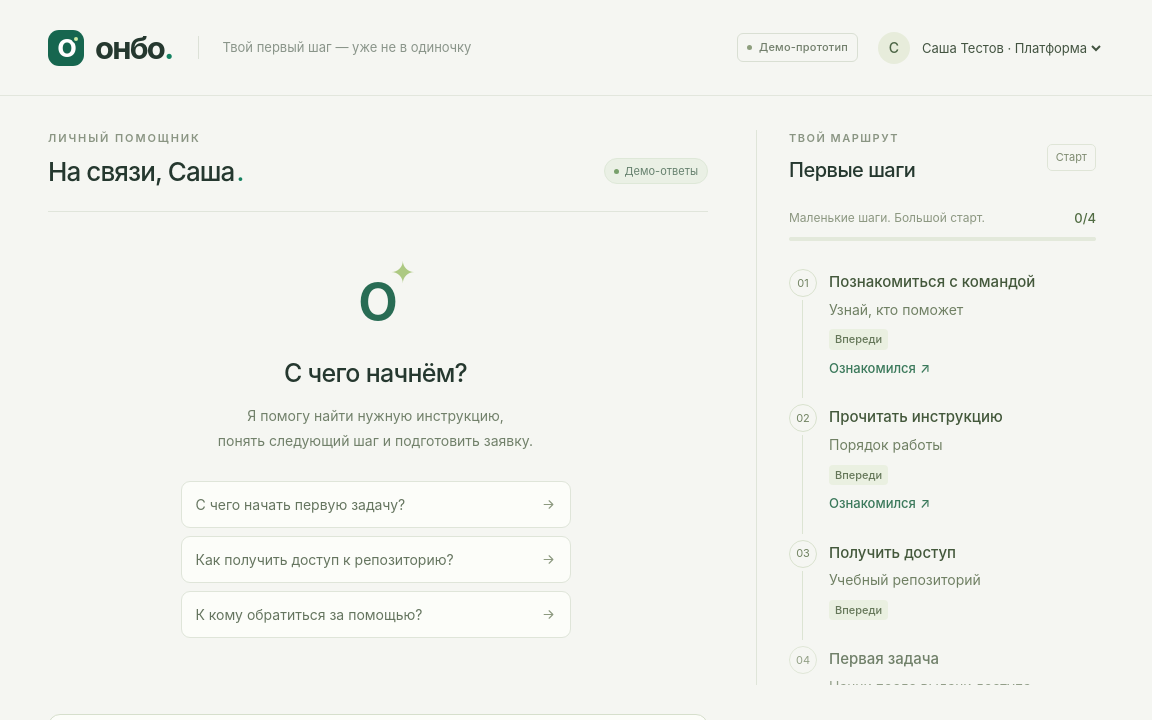
it: Onbo workspace › keeps server state when a manual task or status update fails
The image size is (1152, 720).
Expected: the heading "На связи, Саша." is shown, left=48, top=154, right=243, bottom=188
Click the button "Ознакомился ↗" below "Узнай, кто поможет" at coordinates (880, 369), box left=829, top=359, right=930, bottom=378
(page scrolled)
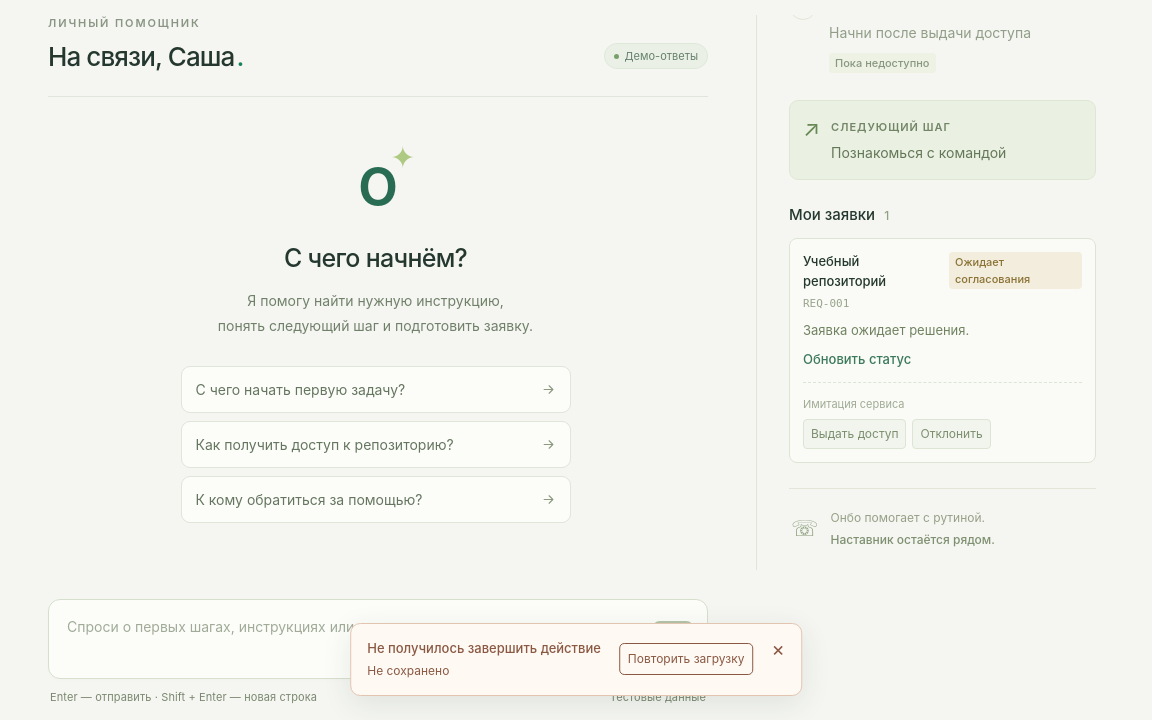
Expected: the message shows "Не сохранено", left=367, top=663, right=449, bottom=678
Click the button "Обновить статус" at coordinates (857, 360), box left=803, top=350, right=911, bottom=370
(page scrolled)
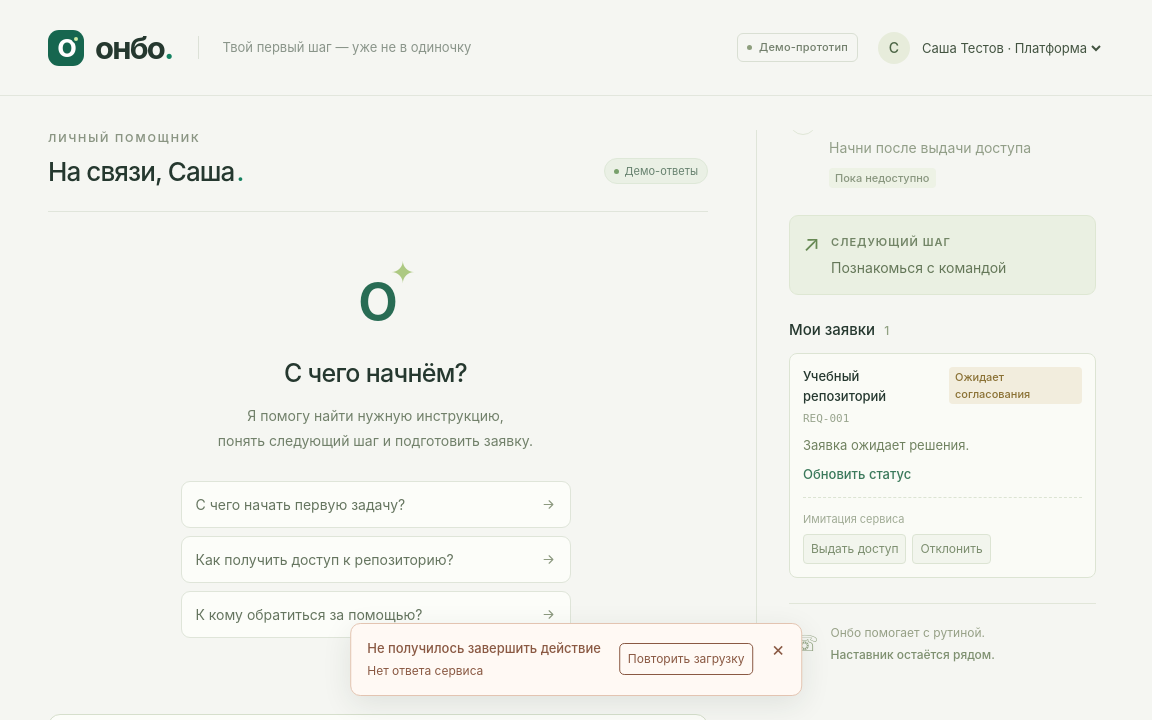
Expected: the text "Ожидает согласования" is shown, left=949, top=368, right=1082, bottom=404
Expected: the message shows "Нет ответа сервиса", left=367, top=663, right=483, bottom=678
